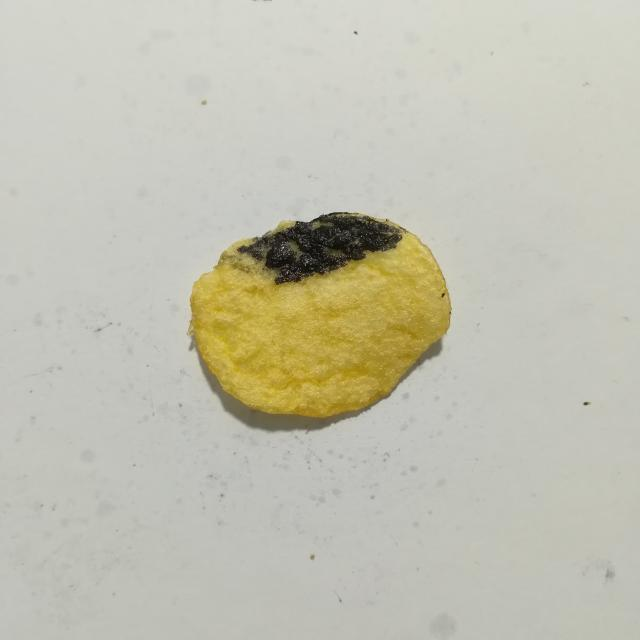chip: (189, 212, 451, 417)
damaged: (238, 213, 403, 283)
semi-damaged: (218, 238, 279, 284)
